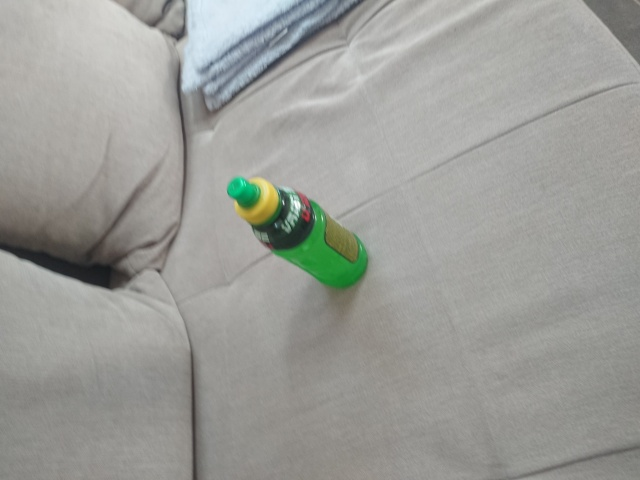Vindi Iso Sport Lemon-Grapefruit 500mL: (224, 173, 371, 292)
